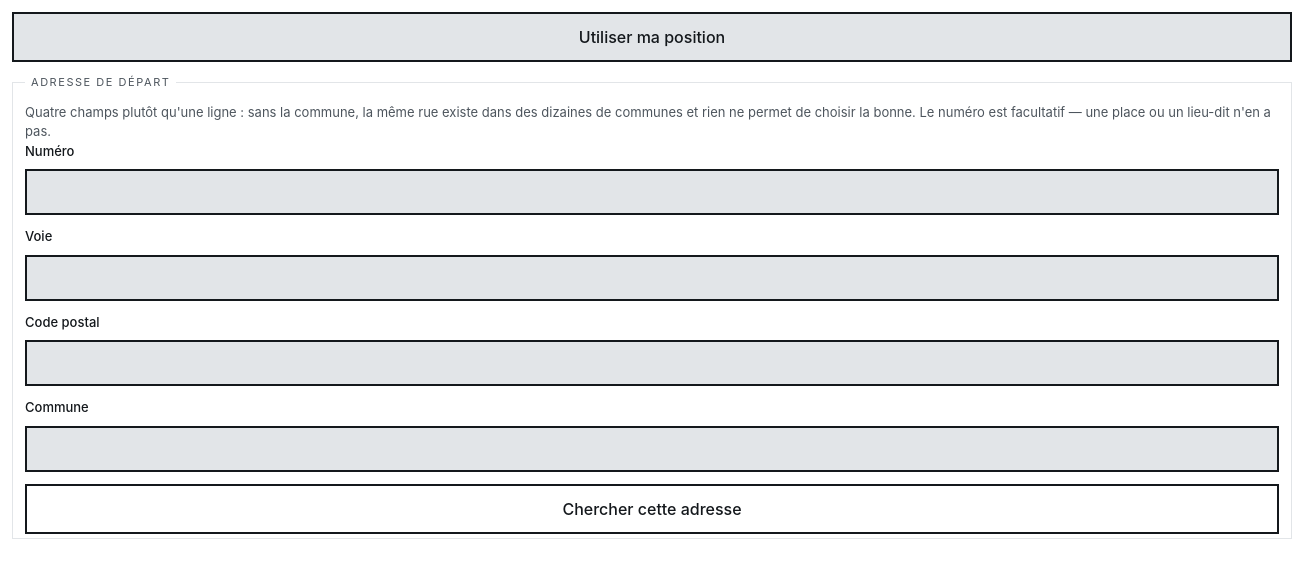
Test: le formulaire à champs obligatoires › refuse de chercher tant que la commune manque, et ne touche pas au réseau
The image size is (1304, 585).
Type "7" into the field labelled "Numéro".
click(652, 192); type("7")  # box [25,169,1279,215]
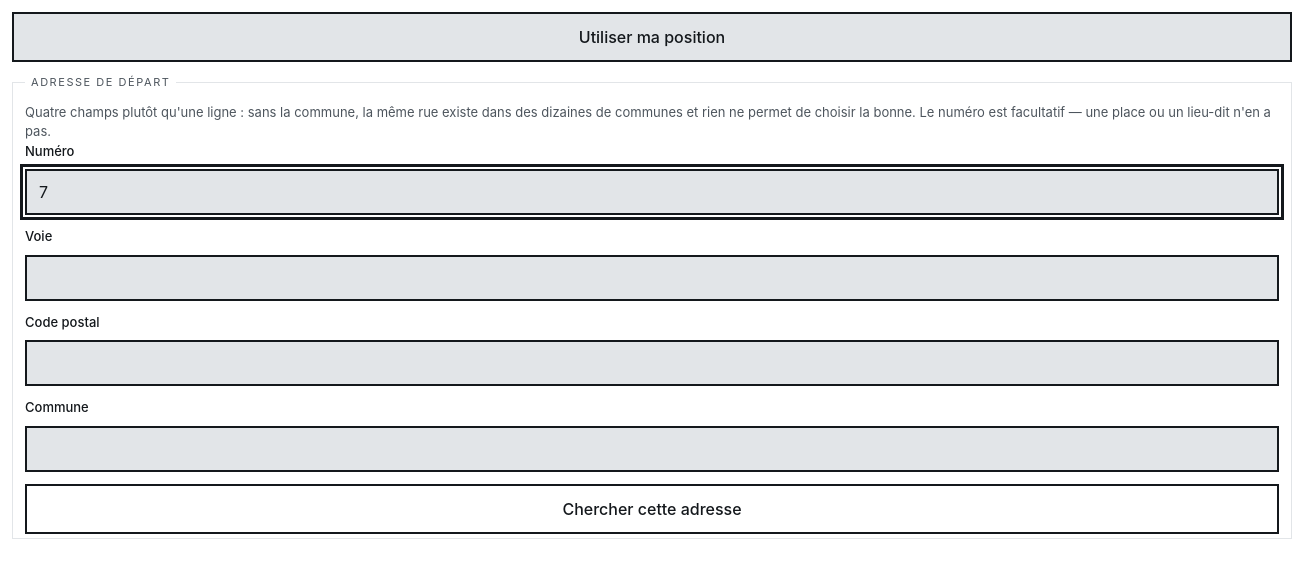
Type "Rue du If" into the field labelled "Voie".
click(652, 278); type("Rue du If")  # box [25,254,1279,300]
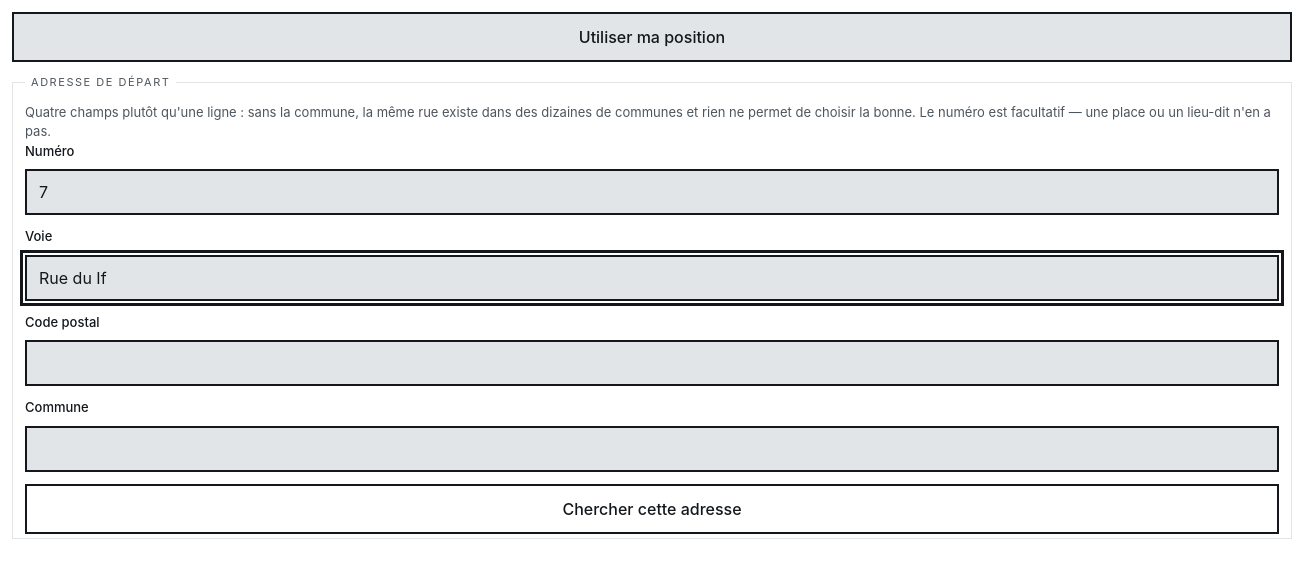
Click the button "Chercher cette adresse".
click(652, 508)  # box [25,484,1279,534]
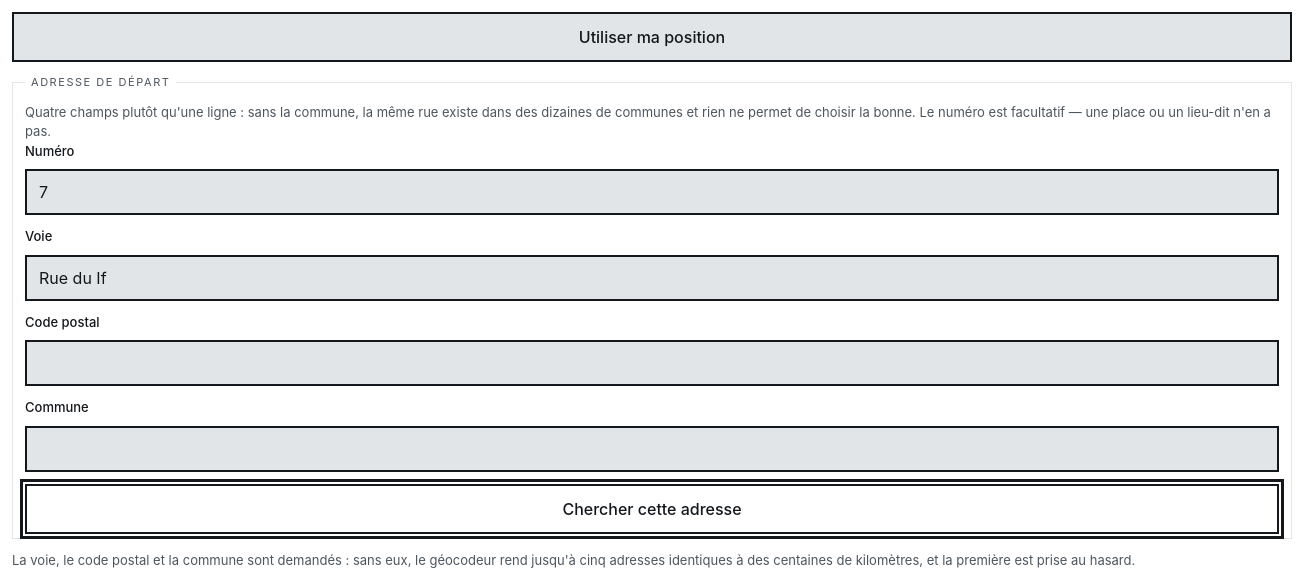
expect the text "sont demandés" is shown: met, box [12,552,1135,568]
